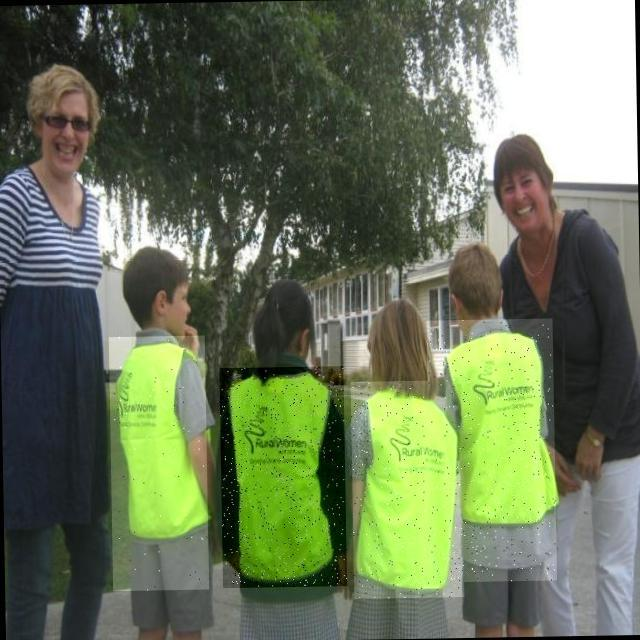Person: (493, 117, 640, 640), (0, 43, 109, 640), (224, 265, 349, 640), (112, 233, 218, 640), (353, 284, 441, 640), (448, 232, 519, 640)
Safety Vest: (426, 319, 557, 583), (219, 366, 347, 588), (108, 335, 209, 591), (350, 380, 464, 599)
bare-arms: (578, 426, 611, 491), (545, 435, 574, 495)
no-helmet: (15, 59, 100, 118), (495, 128, 554, 196), (121, 241, 188, 300), (361, 294, 423, 356), (259, 274, 320, 326), (447, 236, 503, 288)
no-vest: (0, 160, 102, 536), (504, 227, 640, 456)
